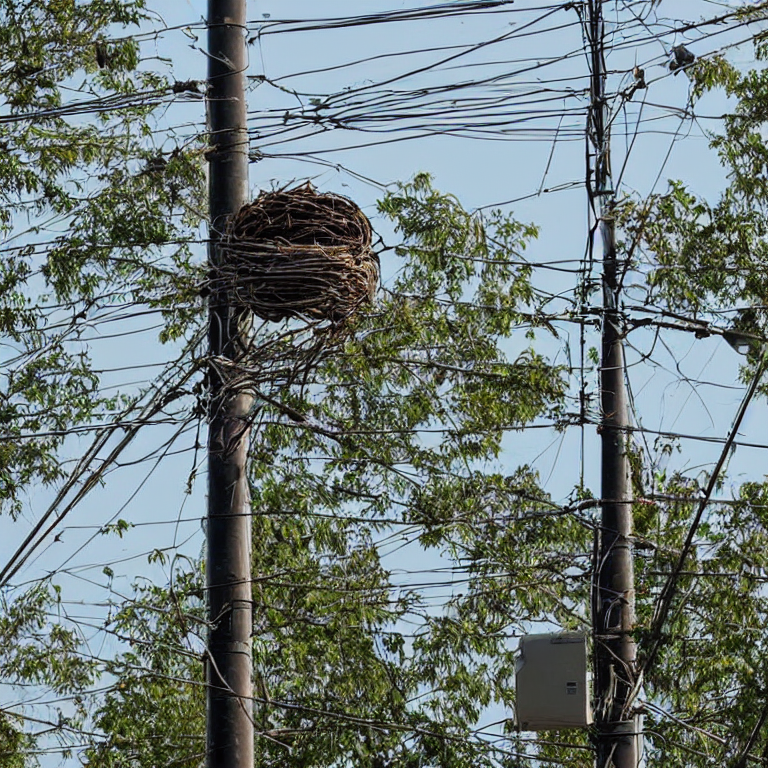nest: (219, 196, 376, 317)
